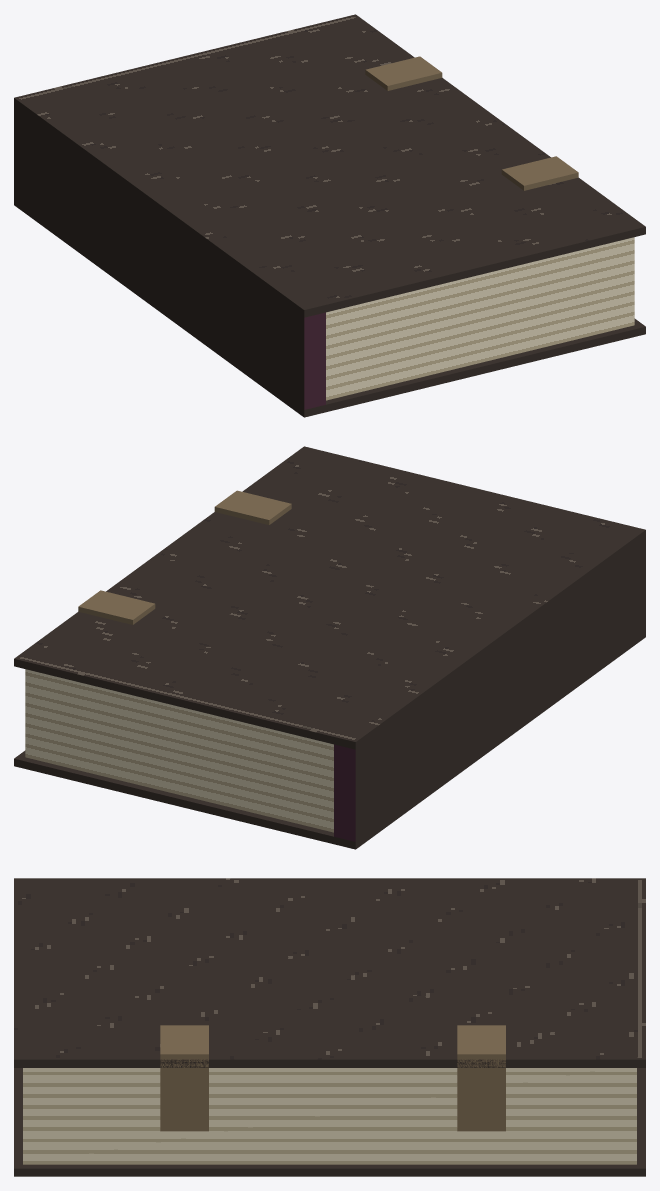
The model's file is necronomicon.glb.
3 views of the same model, one above another, from view 1: azimuth 30°, elevation 25°; view 2: azimuth 150°, elevation 25°; view 3: azimuth 270°, elevation 25° (orthographic). The views are drawn at different scales.
Parts seen in each view (by area): view 1: block_front cover, block_spine, block_page block, block_back cover, block_clasp (×2); view 2: block_front cover, block_spine, block_page block, block_back cover, block_clasp (×2); view 3: block_front cover, block_page block, block_clasp (×2), block_back cover.
Part boxes in pixels (x1=…): block_front cover: x1=14, y1=14, x2=645, y2=317; block_spine: x1=14, y1=105, x2=325, y2=409; block_page block: x1=326, y1=237, x2=634, y2=400; block_back cover: x1=14, y1=198, x2=645, y2=417; block_clasp (×2): x1=365, y1=56, x2=578, y2=190; block_front cover: x1=14, y1=446, x2=645, y2=749; block_spine: x1=334, y1=537, x2=645, y2=841; block_page block: x1=25, y1=669, x2=333, y2=832; block_back cover: x1=14, y1=630, x2=645, y2=849; block_clasp (×2): x1=78, y1=490, x2=291, y2=624; block_front cover: x1=14, y1=878, x2=645, y2=1067; block_page block: x1=23, y1=1068, x2=636, y2=1164; block_clasp (×2): x1=160, y1=1025, x2=505, y2=1131; block_back cover: x1=14, y1=1068, x2=645, y2=1176.
Size of the model in its own units: 0.1414 by 0.0445 by 0.208.
2 materials, 2 textured.
